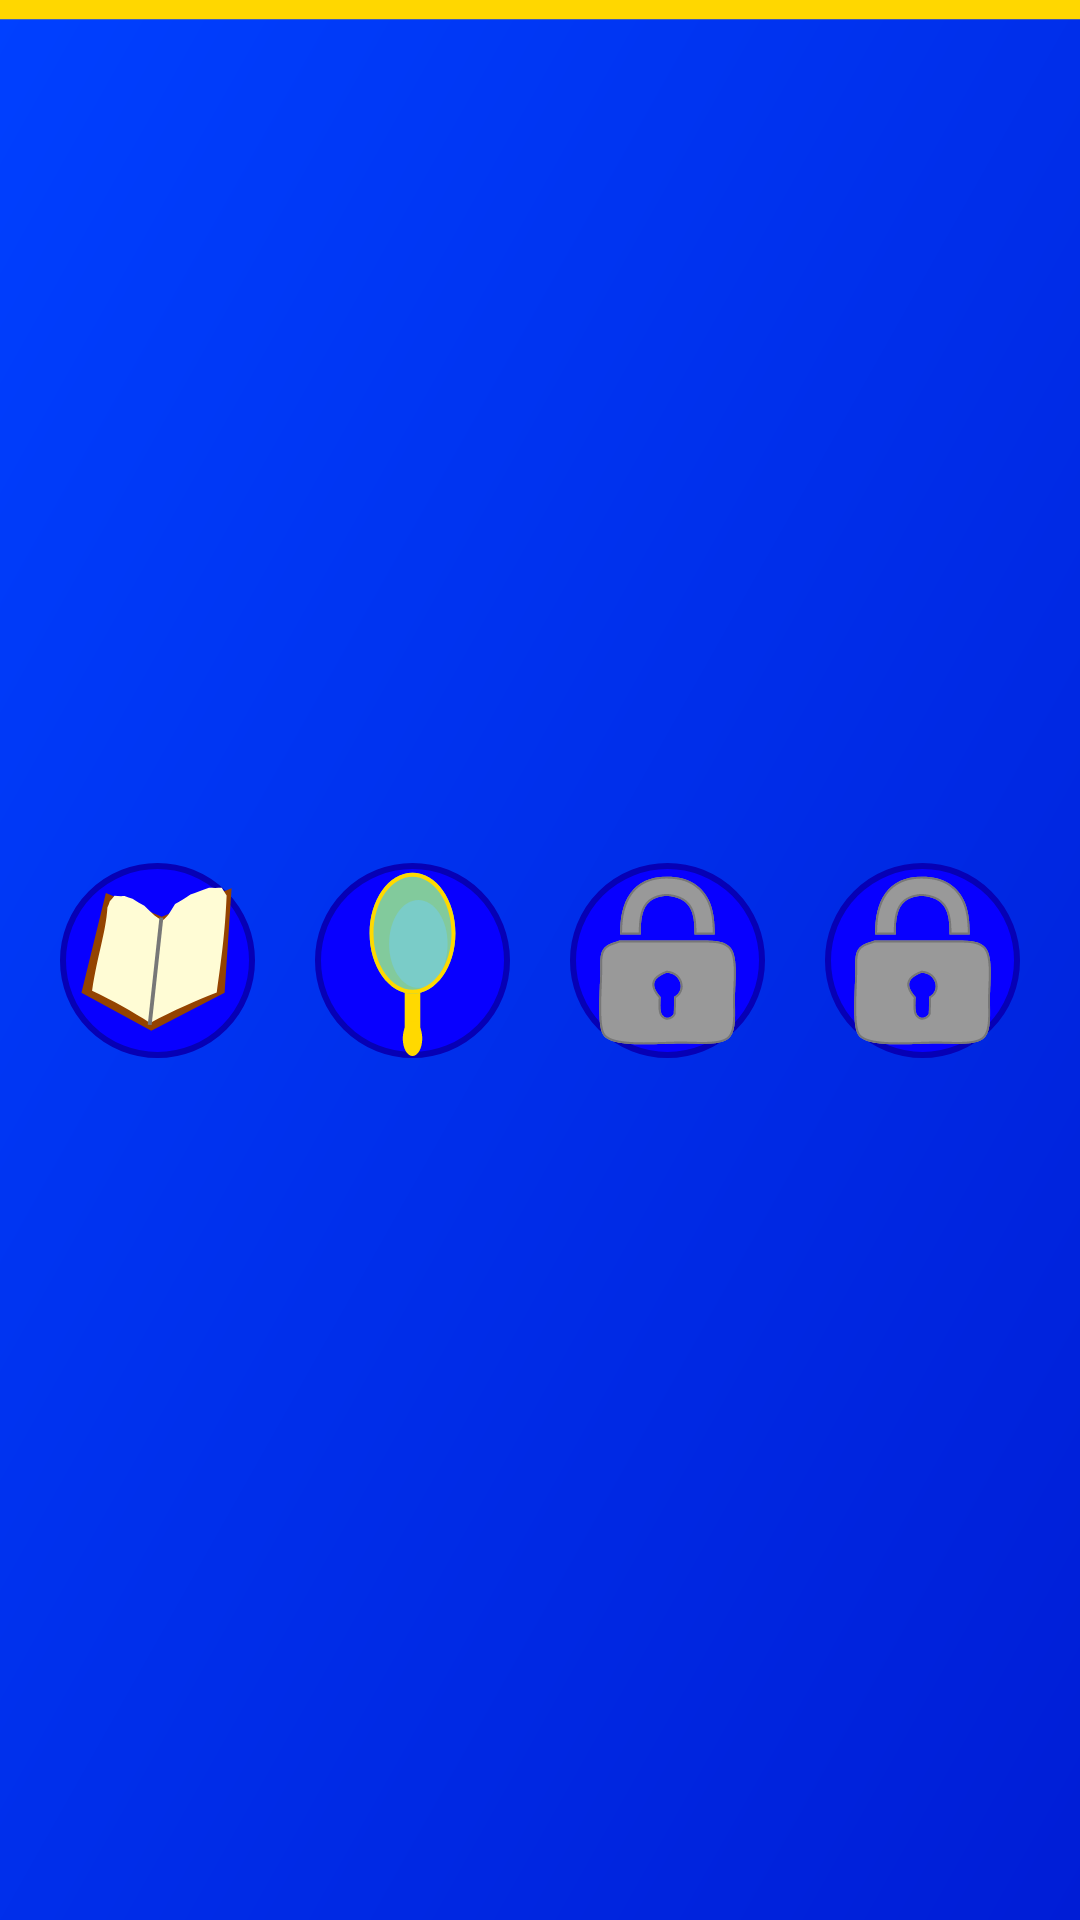

Locate icon controls on the screen. Image size 1080px×1920px, boxes as region(x1, y1, x2, y2).
lessons: region(60, 863, 255, 1058)
locked feature: region(570, 863, 765, 1058), region(825, 863, 1020, 1058)
